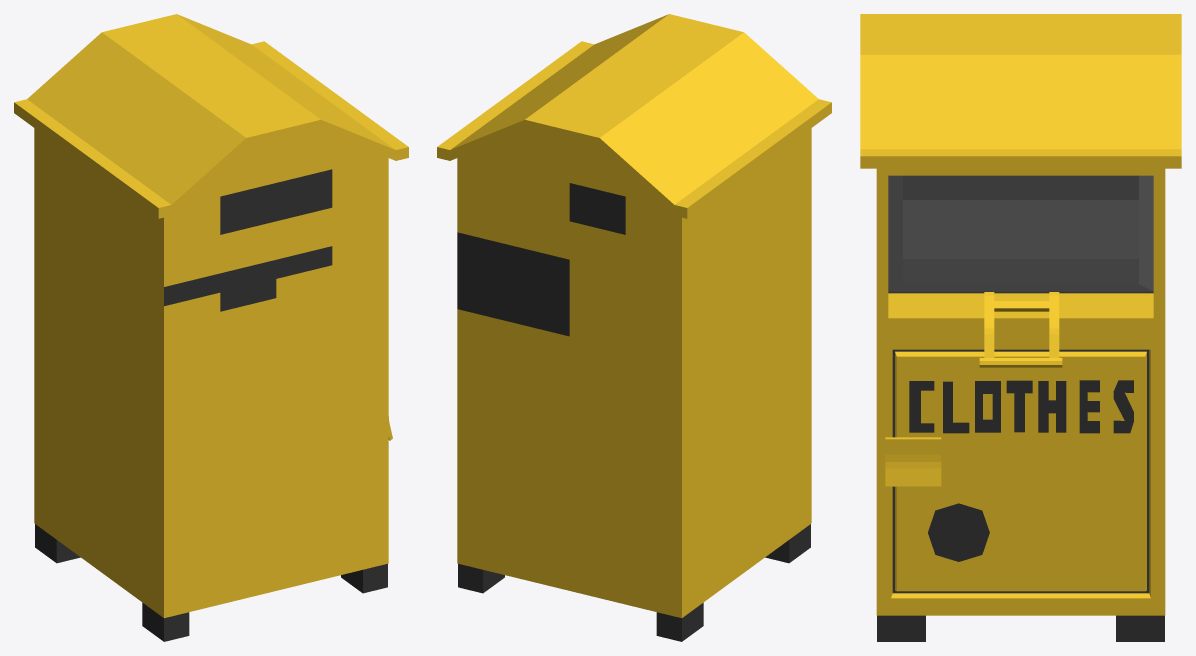
File: SM_clothes_bin.gltf
The picture shows the model from 3 angles, left to right: view 1: azimuth 30°, elevation 25°; view 2: azimuth 150°, elevation 25°; view 3: azimuth 270°, elevation 25°; orthographic projection. The views are drawn at different scales.
Parts seen in each view (by area): view 1: SM_clothes_bin; view 2: SM_clothes_bin; view 3: SM_clothes_bin.
Part boxes in pixels (<box>): SM_clothes_bin: <box>14,14,408,641</box>; SM_clothes_bin: <box>437,14,831,641</box>; SM_clothes_bin: <box>860,14,1181,641</box>.
Bounding box in the file's own units: 1.47 × 2.58 × 1.38.
1 material, 1 textured.
